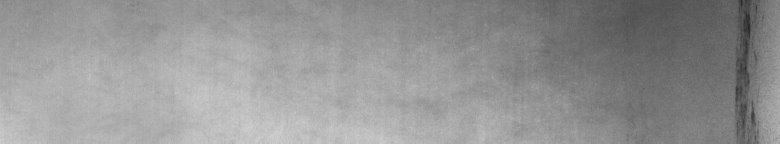hd: (729, 4, 764, 136)
